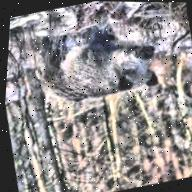boar: (19, 0, 176, 119)
